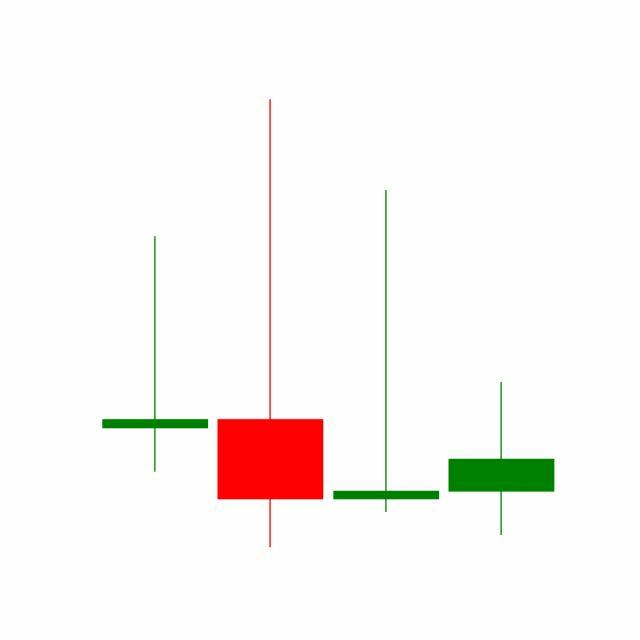Gravestone Doji: (329, 187, 445, 516)
